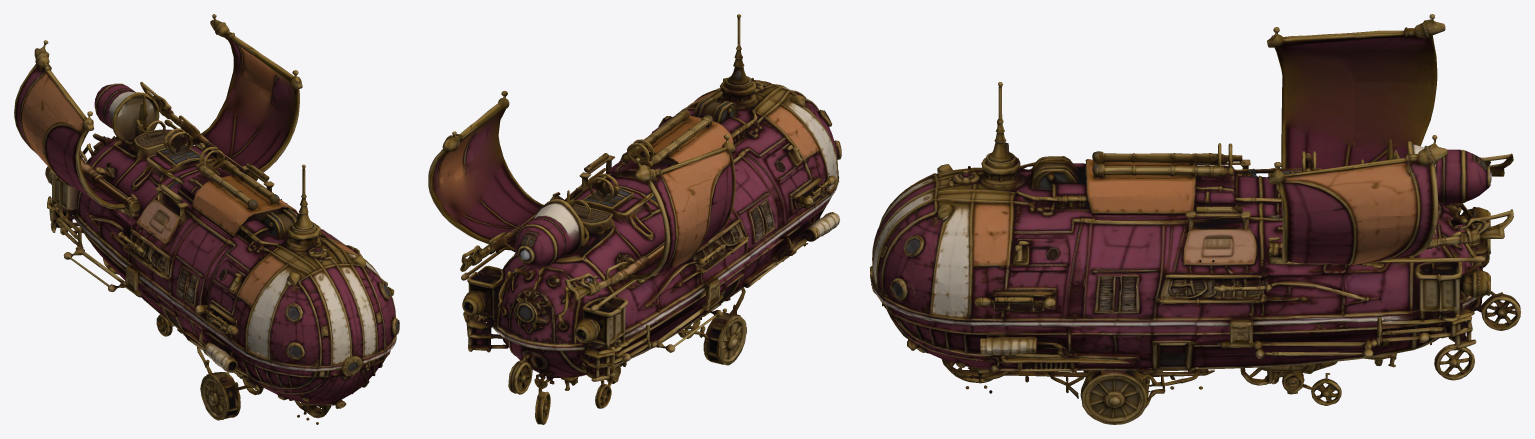
3 renders of one model, left to right at view 1: azimuth 30°, elevation 25°; view 2: azimuth 150°, elevation 25°; view 3: azimuth 270°, elevation 25°, orthographic. The views are drawn at different scales.
Parts seen in each view (by area): view 1: geometry_0; view 2: geometry_0; view 3: geometry_0.
Boxes of the visible parts, box(x1,y1,x2,y2) form: geometry_0: box(14, 14, 399, 424); geometry_0: box(428, 14, 841, 424); geometry_0: box(870, 14, 1520, 424).
Size of the model in its own units: 0.5055 by 0.6123 by 0.9998.
Materials: 1 (1 with a texture image).
